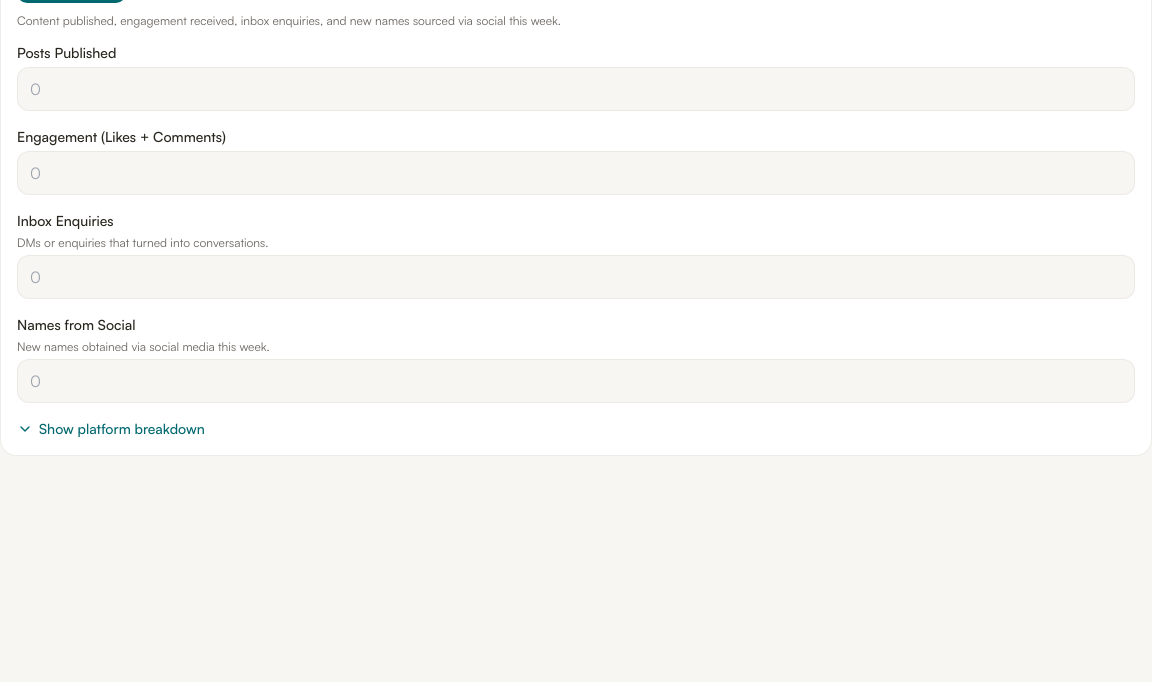
Test: StepSocialContent — platform breakdown › expands on toggle + reveals all 4 platform inputs
The width and height of the screenshot is (1152, 682).
Step 1. Click the button "Show platform breakdown" → (111, 428), box [17, 418, 205, 438]
(page scrolled)
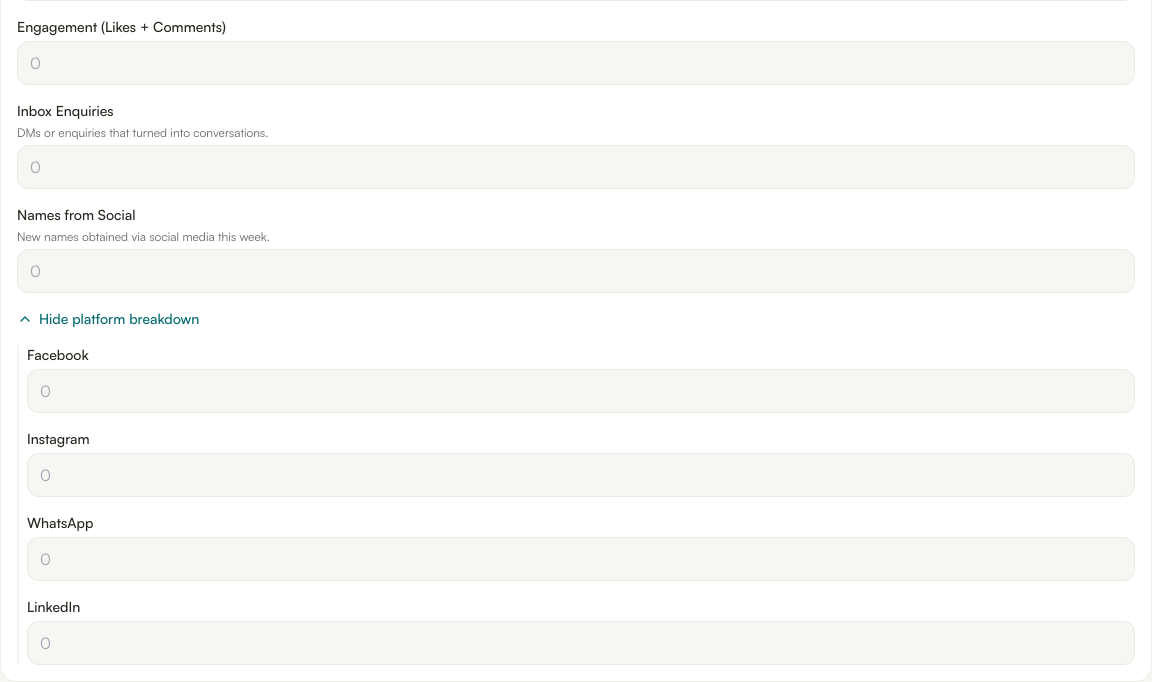
Now the field labelled "Facebook" is shown, box [27, 368, 1135, 412]
Now the field labelled "Instagram" is shown, box [27, 452, 1135, 496]
Now the field labelled "WhatsApp" is shown, box [27, 536, 1135, 580]
